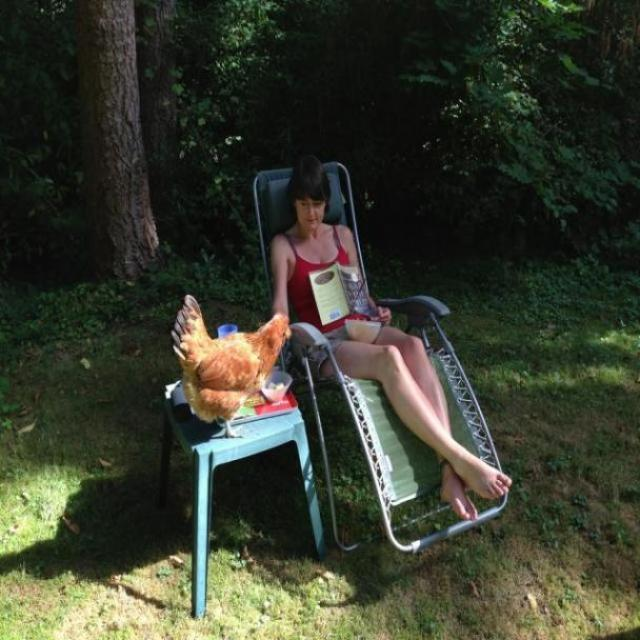Chicken: (171, 293, 291, 432)
